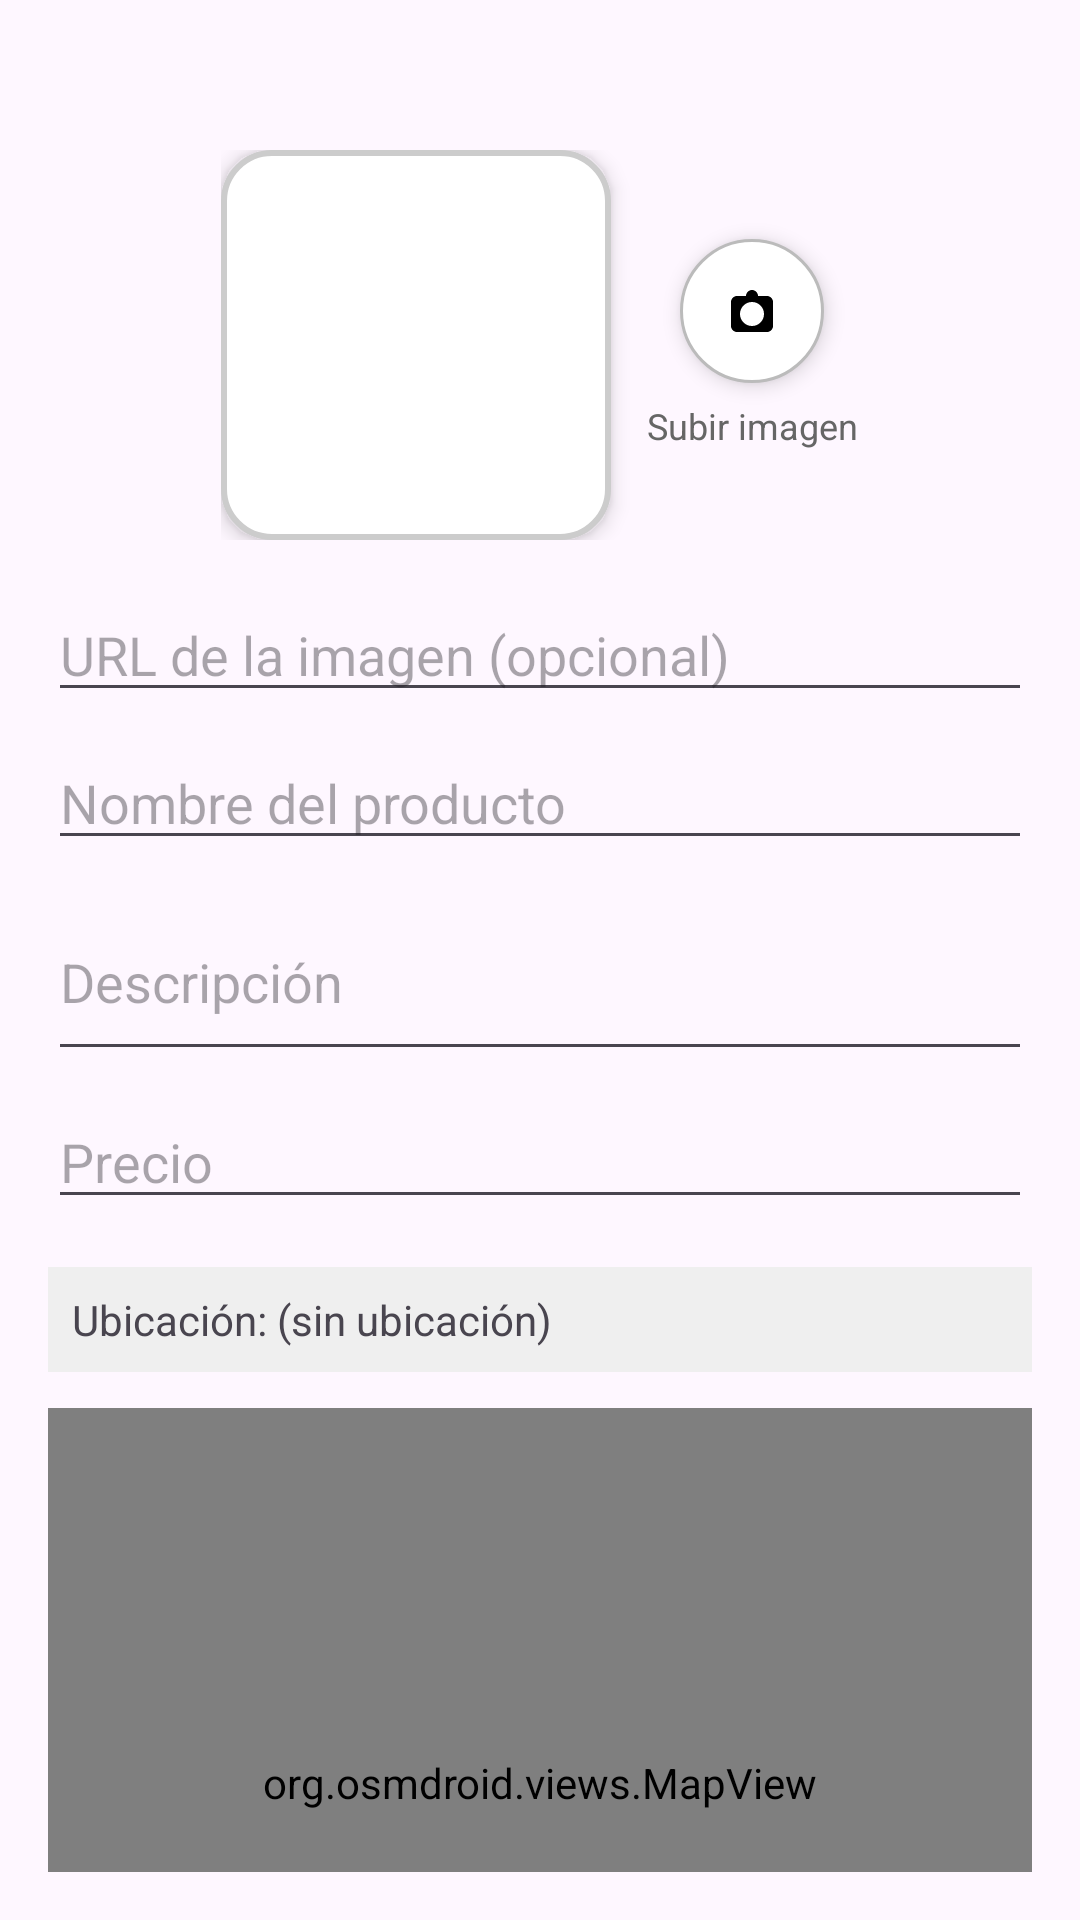

Where to tap for icons on this 1080px×1920px app screen, as (x,y):
Seleccionar imagen: (752,311)
